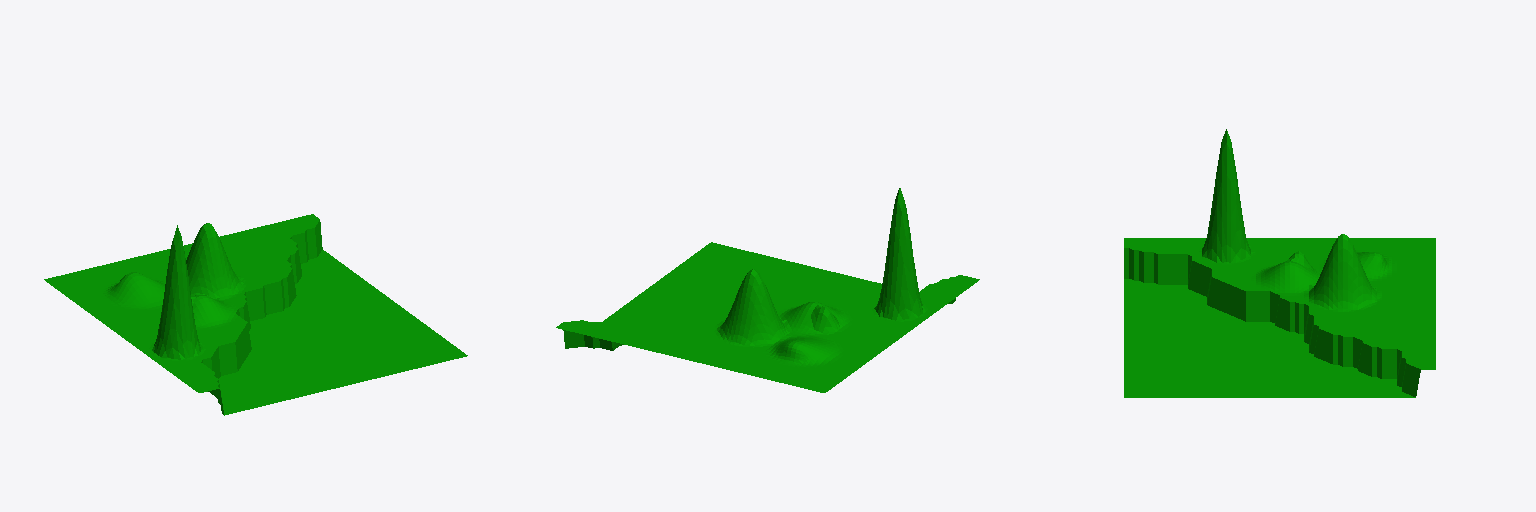
File: brzeg.obj
The picture shows the model from 3 angles: view 1: azimuth 30°, elevation 25°; view 2: azimuth 150°, elevation 25°; view 3: azimuth 270°, elevation 25°; orthographic projection.
Parts seen in each view (by area): view 1: Brzeg_Plane; view 2: Brzeg_Plane; view 3: Brzeg_Plane.
Part boxes in pixels (left/top/right/bottom): Brzeg_Plane: left=44, top=214, right=467, bottom=415; Brzeg_Plane: left=556, top=188, right=979, bottom=392; Brzeg_Plane: left=1124, top=129, right=1435, bottom=397.
Size of the model in its own units: 20 by 10.77 by 20.